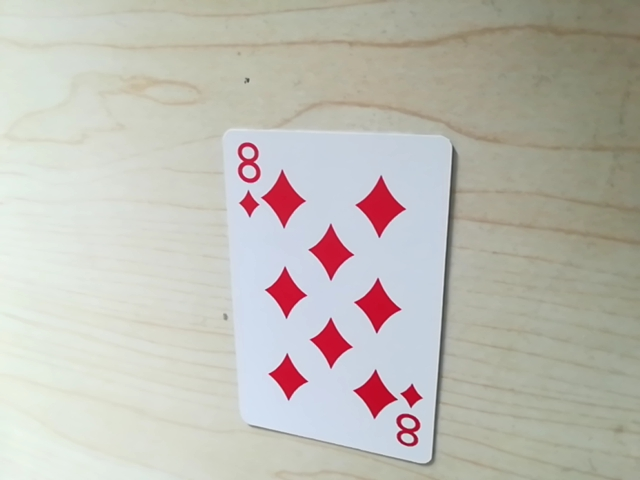fk 8: (389, 393, 430, 456), (228, 135, 269, 191)
